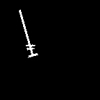treble_crochet: (19, 10, 37, 56)
